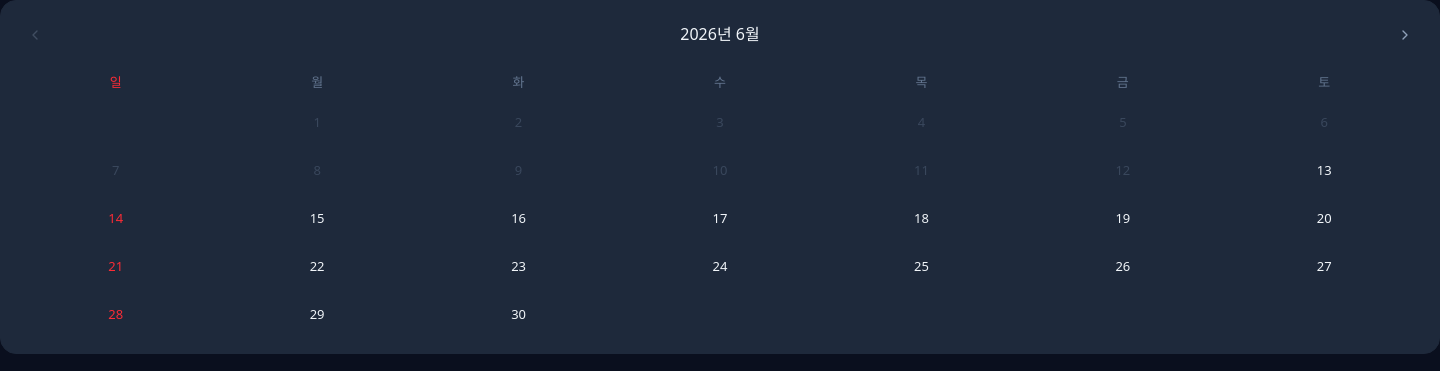
Calendar › 다음 달로 이동하면 라벨이 바뀌고 1일도 활성
Click the button named "다음 달" at (1405, 35), box 1387,17 -> 1423,53
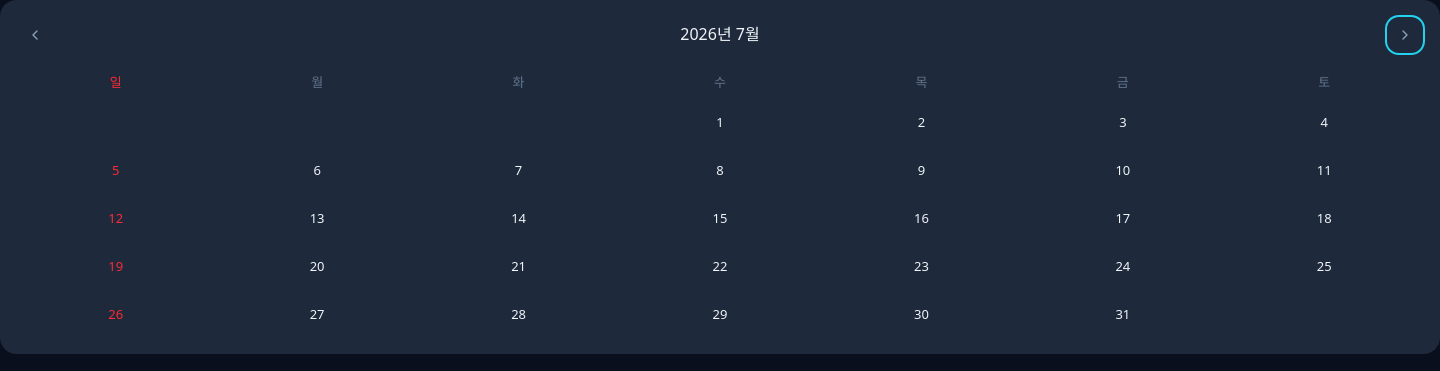
Check: the button named "이전 달" is enabled, box 17,17 -> 53,53
Check: the text "2026년 7월" is shown, box 680,22 -> 760,48
